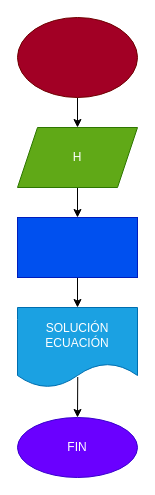
Image size: 155x495. Some labels were removed from this diagram. Each missing label, with the box of its shape:
H = (-1*B) / A: (16, 216, 138, 278)
INICIO: (16, 16, 138, 98)
